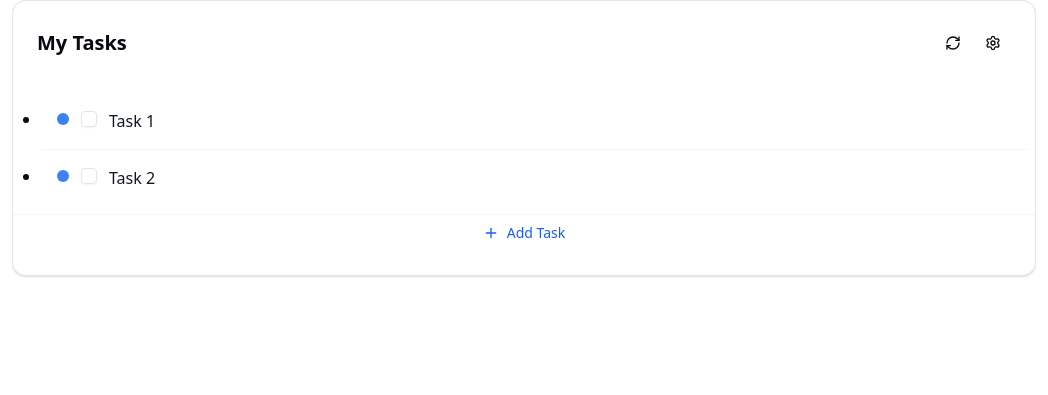
Test: TaskList › task interactions › clears the toggle-error banner on the next successful toggle
The image size is (1048, 395).
Click the checkbox named "Task 1" at (89, 119), box [81,111,97,127]
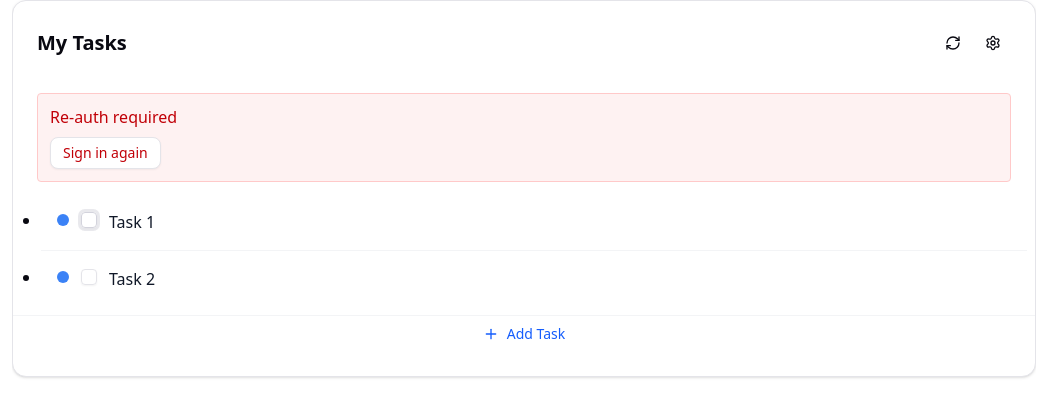
Check: the button "Sign in again" is shown, box [50,137,161,169]
Click the checkbox named "Task 2" at (89, 277), box [81,269,97,285]
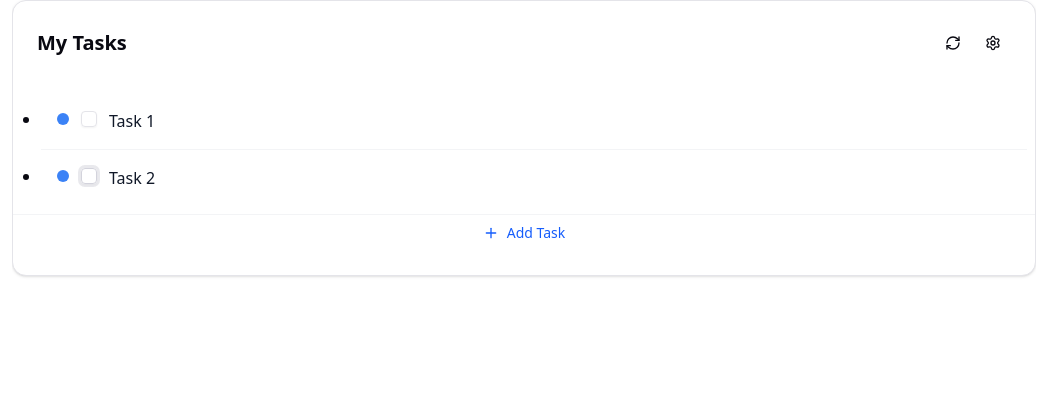
Check: the button "Sign in again" is gone
